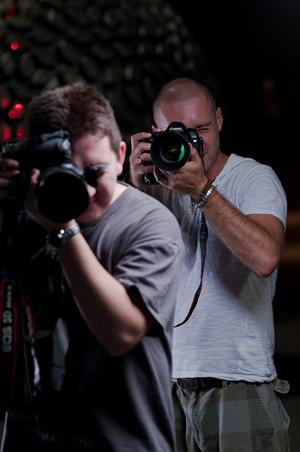person: (5, 84, 181, 452)
